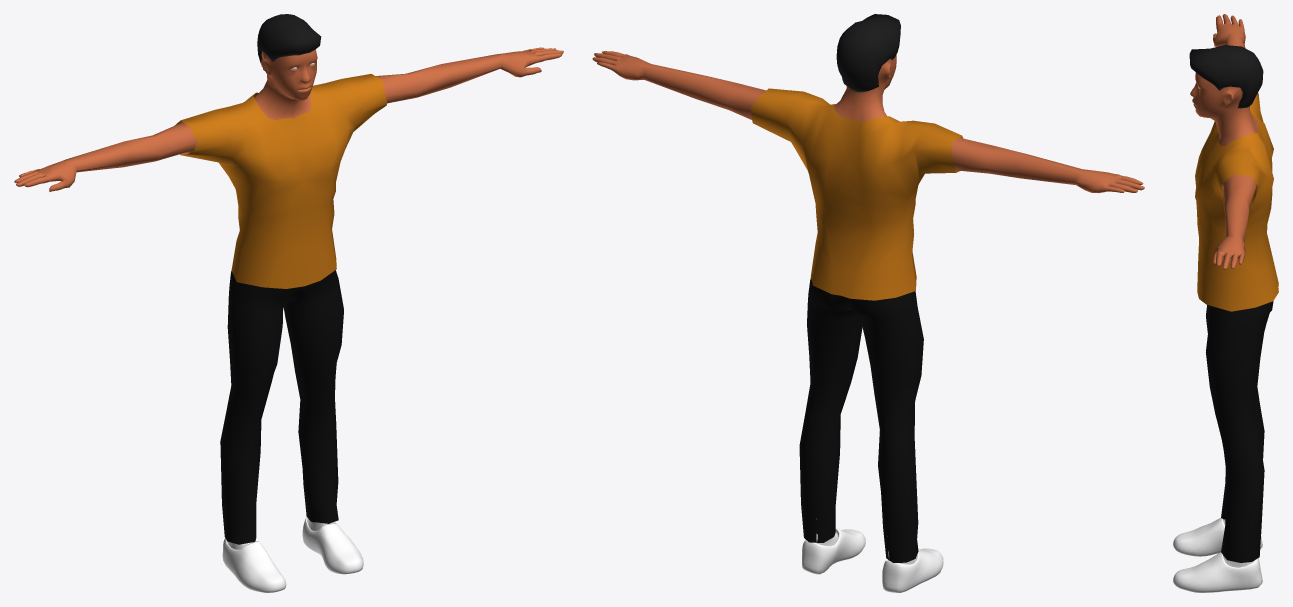
The model's file is Man 4.obj.
The picture shows the model from 3 angles, left to right: view 1: azimuth 30°, elevation 25°; view 2: azimuth 150°, elevation 25°; view 3: azimuth 270°, elevation 25°; orthographic projection. The views are drawn at different scales.
Visible parts, largest first — view 1: Human:Male1591.001, Human:Male1591.002, Human:Male1591, Human:Shoes05, Human:Male1591.003_Human:Male1591.005; view 2: Human:Male1591.001, Human:Male1591.002, Human:Male1591, Human:Shoes05, Human:Male1591.003_Human:Male1591.005; view 3: Human:Male1591.002, Human:Male1591.001, Human:Male1591, Human:Shoes05, Human:Male1591.003_Human:Male1591.005.
Part boxes in pixels (x1=…): Human:Male1591.001: x1=174, y1=74, x2=387, y2=288; Human:Male1591.002: x1=220, y1=270, x2=343, y2=544; Human:Male1591: x1=14, y1=47, x2=563, y2=191; Human:Shoes05: x1=222, y1=517, x2=363, y2=592; Human:Male1591.003_Human:Male1591.005: x1=257, y1=14, x2=321, y2=73; Human:Male1591.001: x1=750, y1=88, x2=963, y2=300; Human:Male1591.002: x1=799, y1=278, x2=923, y2=562; Human:Male1591: x1=592, y1=51, x2=1144, y2=193; Human:Shoes05: x1=802, y1=518, x2=943, y2=592; Human:Male1591.003_Human:Male1591.005: x1=836, y1=14, x2=900, y2=92; Human:Male1591.002: x1=1206, y1=301, x2=1273, y2=562; Human:Male1591.001: x1=1195, y1=93, x2=1278, y2=311; Human:Male1591: x1=1190, y1=14, x2=1258, y2=269; Human:Shoes05: x1=1173, y1=518, x2=1262, y2=592; Human:Male1591.003_Human:Male1591.005: x1=1189, y1=45, x2=1263, y2=108.
Bounding box in the file's own units: 19.93 × 19.06 × 3.51.
